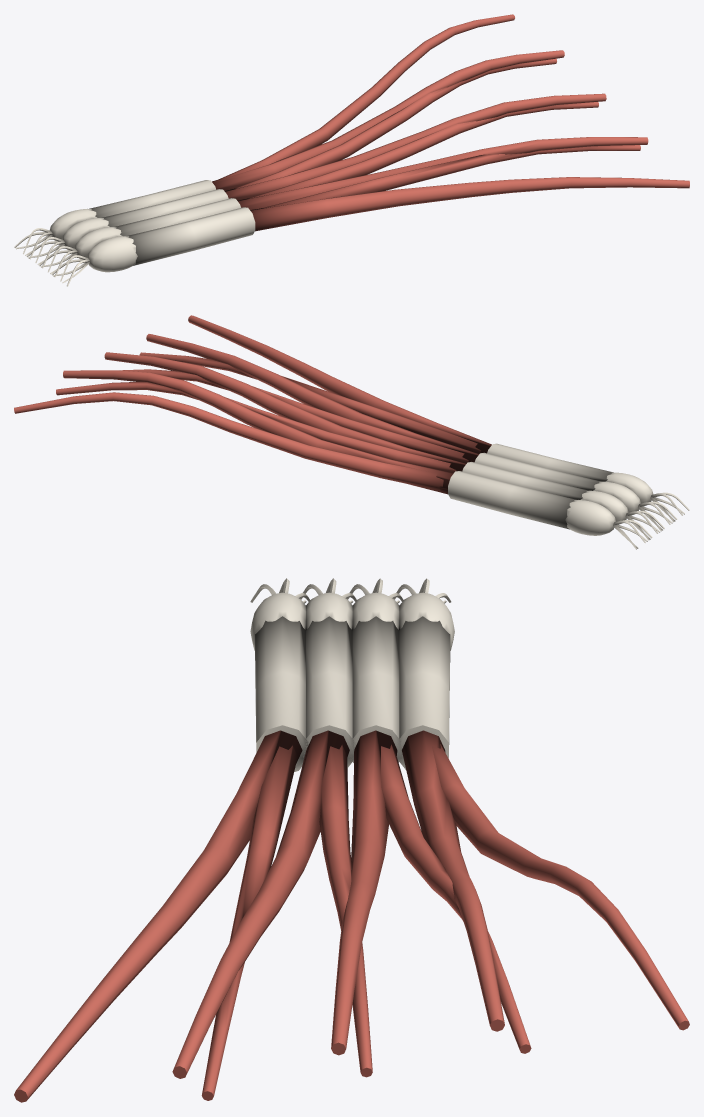
File: food_scallion.glb
The picture shows the model from 3 angles, top to bottom: view 1: azimuth 30°, elevation 25°; view 2: azimuth 150°, elevation 25°; view 3: azimuth 270°, elevation 25°; orthographic projection. The views are drawn at different scales.
Visible parts, largest first — view 1: PART; view 2: PART; view 3: PART.
Part boxes in pixels (x1,y1,x2,y2): PART: [14, 14, 689, 286]; PART: [14, 315, 689, 549]; PART: [14, 578, 689, 1102].
Bounding box in the file's own units: 0.3381 × 0.043 × 0.1876.
